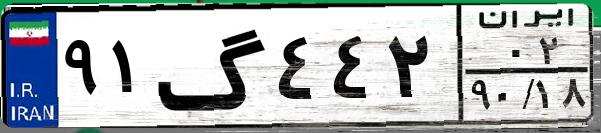0: (508, 27, 537, 80), (495, 70, 520, 125)
1: (110, 28, 156, 98), (535, 70, 560, 125)
2: (385, 28, 445, 110), (537, 27, 568, 80)
4: (270, 28, 330, 110), (330, 28, 385, 110)
8: (560, 70, 590, 125)
9: (57, 26, 110, 100), (470, 70, 495, 125)
گ: (156, 12, 270, 120)
